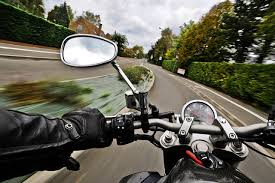motorcycle: (56, 32, 275, 183)
